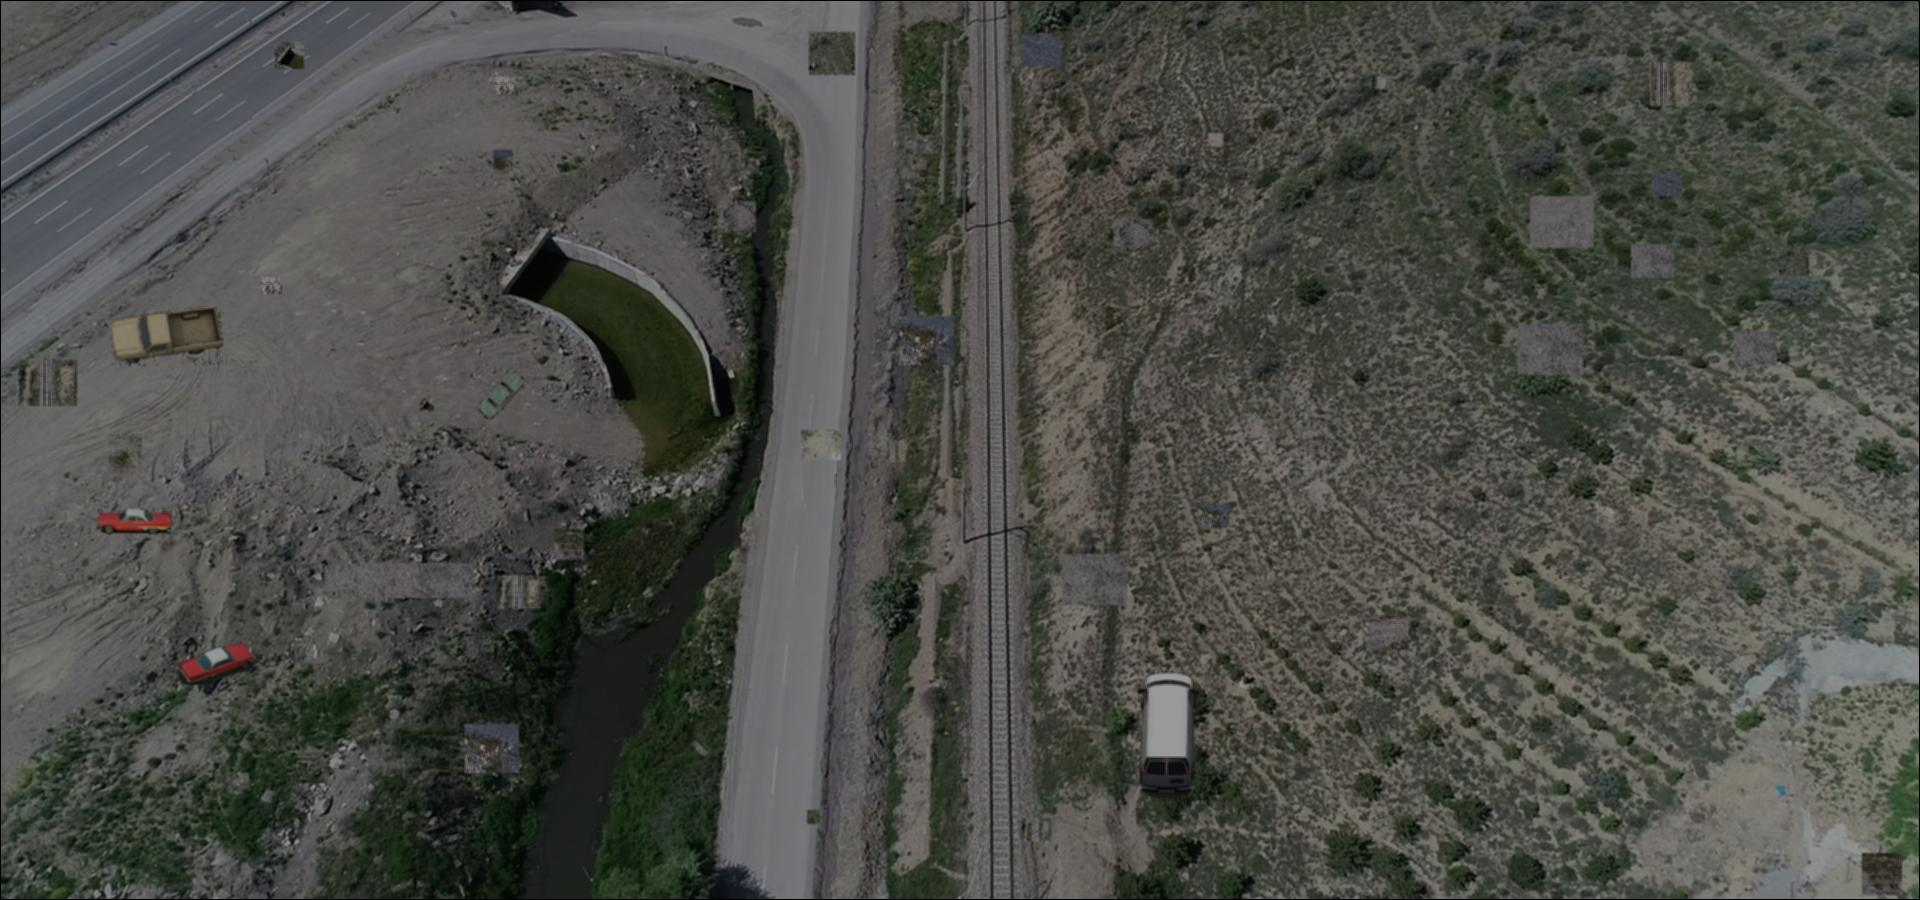arac: (1135, 670, 1202, 800), (111, 307, 223, 366), (178, 642, 253, 684), (478, 370, 525, 421), (96, 509, 175, 535)
